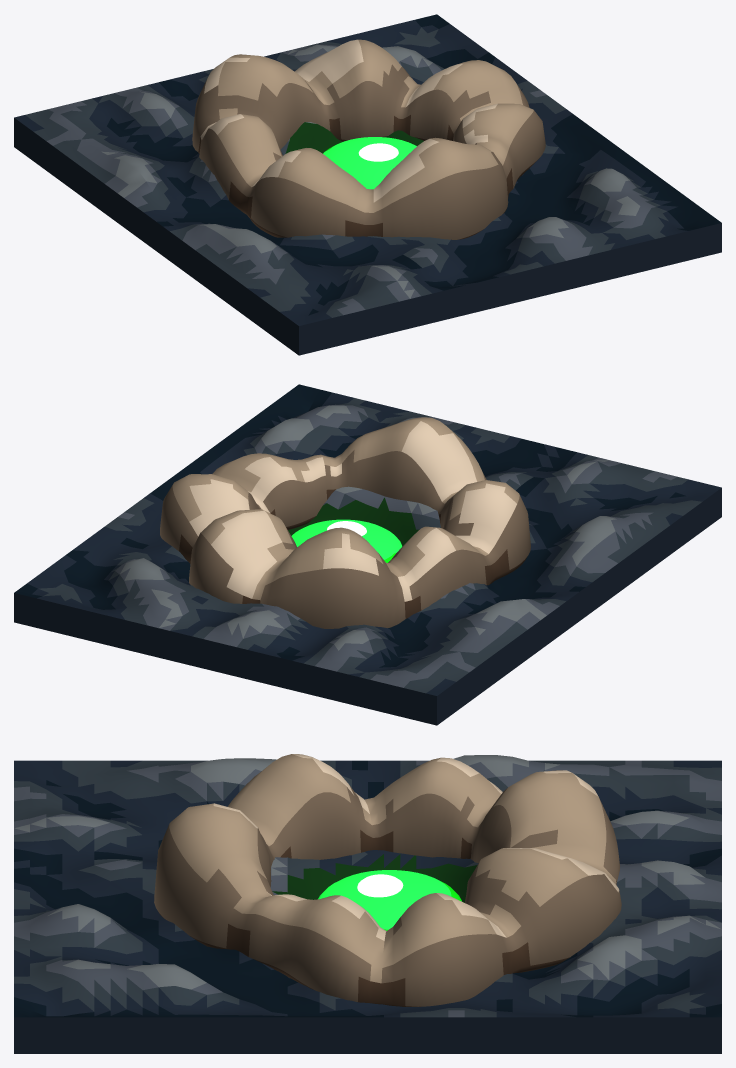
Rendered from gyges_bone_eye_3.glb.
3 views of the same model, one above another, from view 1: azimuth 30°, elevation 25°; view 2: azimuth 150°, elevation 25°; view 3: azimuth 270°, elevation 25° (orthographic). The views are drawn at different scales.
Parts seen in each view (by area): view 1: gyges_bone_eye_3; view 2: gyges_bone_eye_3; view 3: gyges_bone_eye_3.
Part boxes in pixels (<box>): gyges_bone_eye_3: <box>14,14,721,355</box>; gyges_bone_eye_3: <box>14,384,721,725</box>; gyges_bone_eye_3: <box>14,754,721,1053</box>.
Bounding box in the file's own units: 24 × 5.47 × 28.
